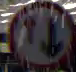Two way: (5, 2, 74, 71)
